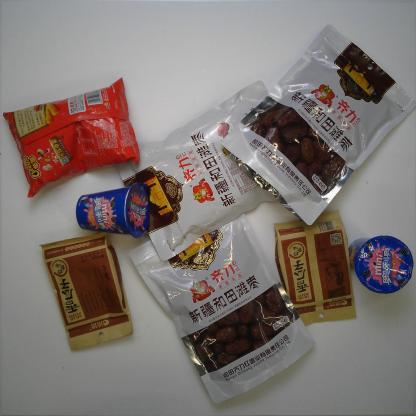Dessert: (72, 180, 151, 241), (344, 232, 416, 298)
Dried Food: (219, 20, 416, 230), (127, 212, 318, 408), (115, 78, 282, 264), (36, 230, 134, 353), (273, 206, 358, 328)
Puffed Food: (1, 76, 142, 198)
